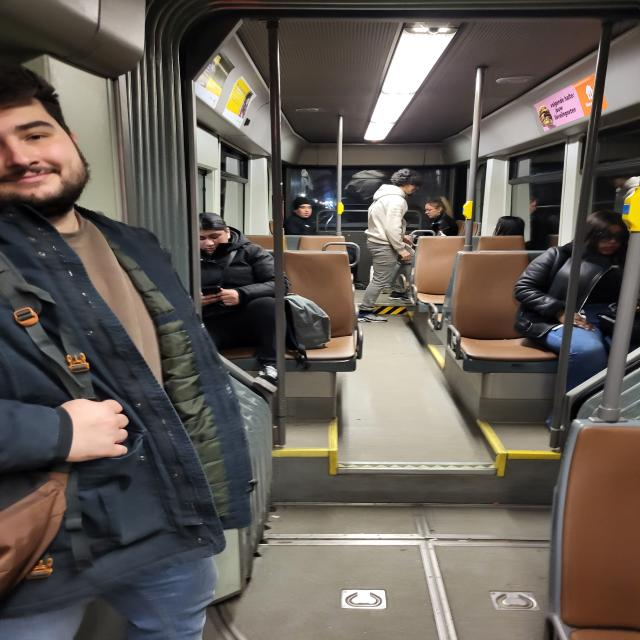empty-seat-frontal: (410, 230, 474, 303)
